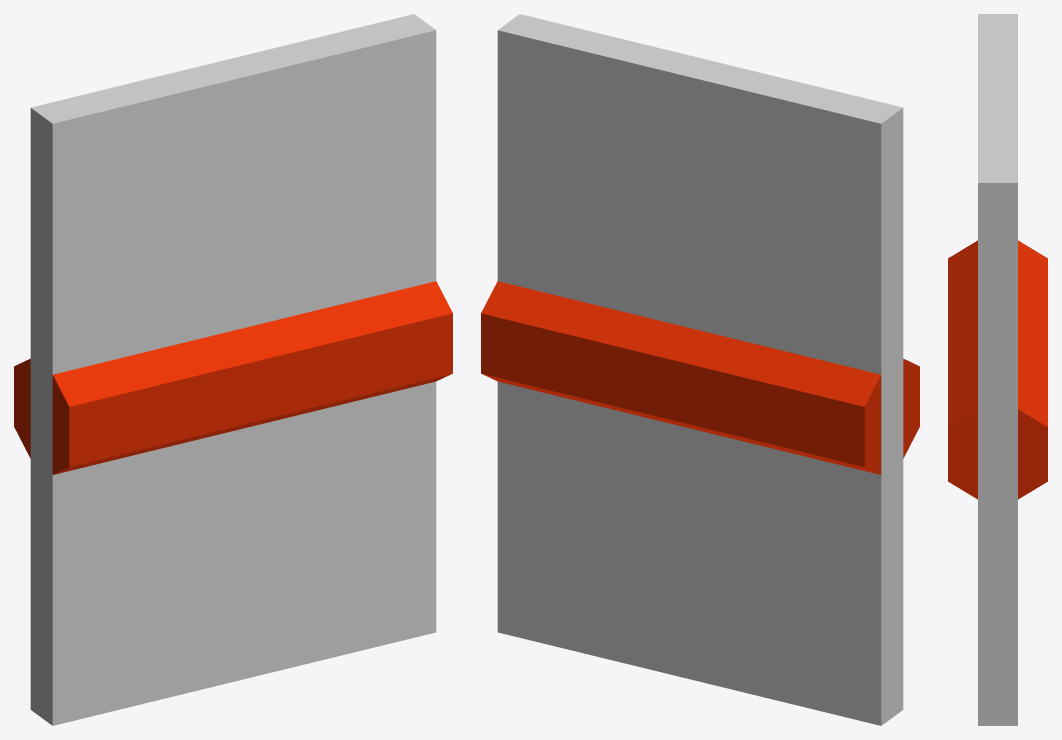
File: Wall0.fbx
3 views of the same model, side by side, from view 1: azimuth 30°, elevation 25°; view 2: azimuth 150°, elevation 25°; view 3: azimuth 270°, elevation 25° (orthographic). The views are drawn at different scales.
Parts seen in each view (by area): view 1: Wall0; view 2: Wall0; view 3: Wall0.
Boxes of the visible parts, box(x1,y1,x2,y2) form: Wall0: box(14, 14, 452, 725); Wall0: box(481, 14, 919, 725); Wall0: box(948, 14, 1047, 725).
Size of the model in its own units: 200 by 300 by 50.
